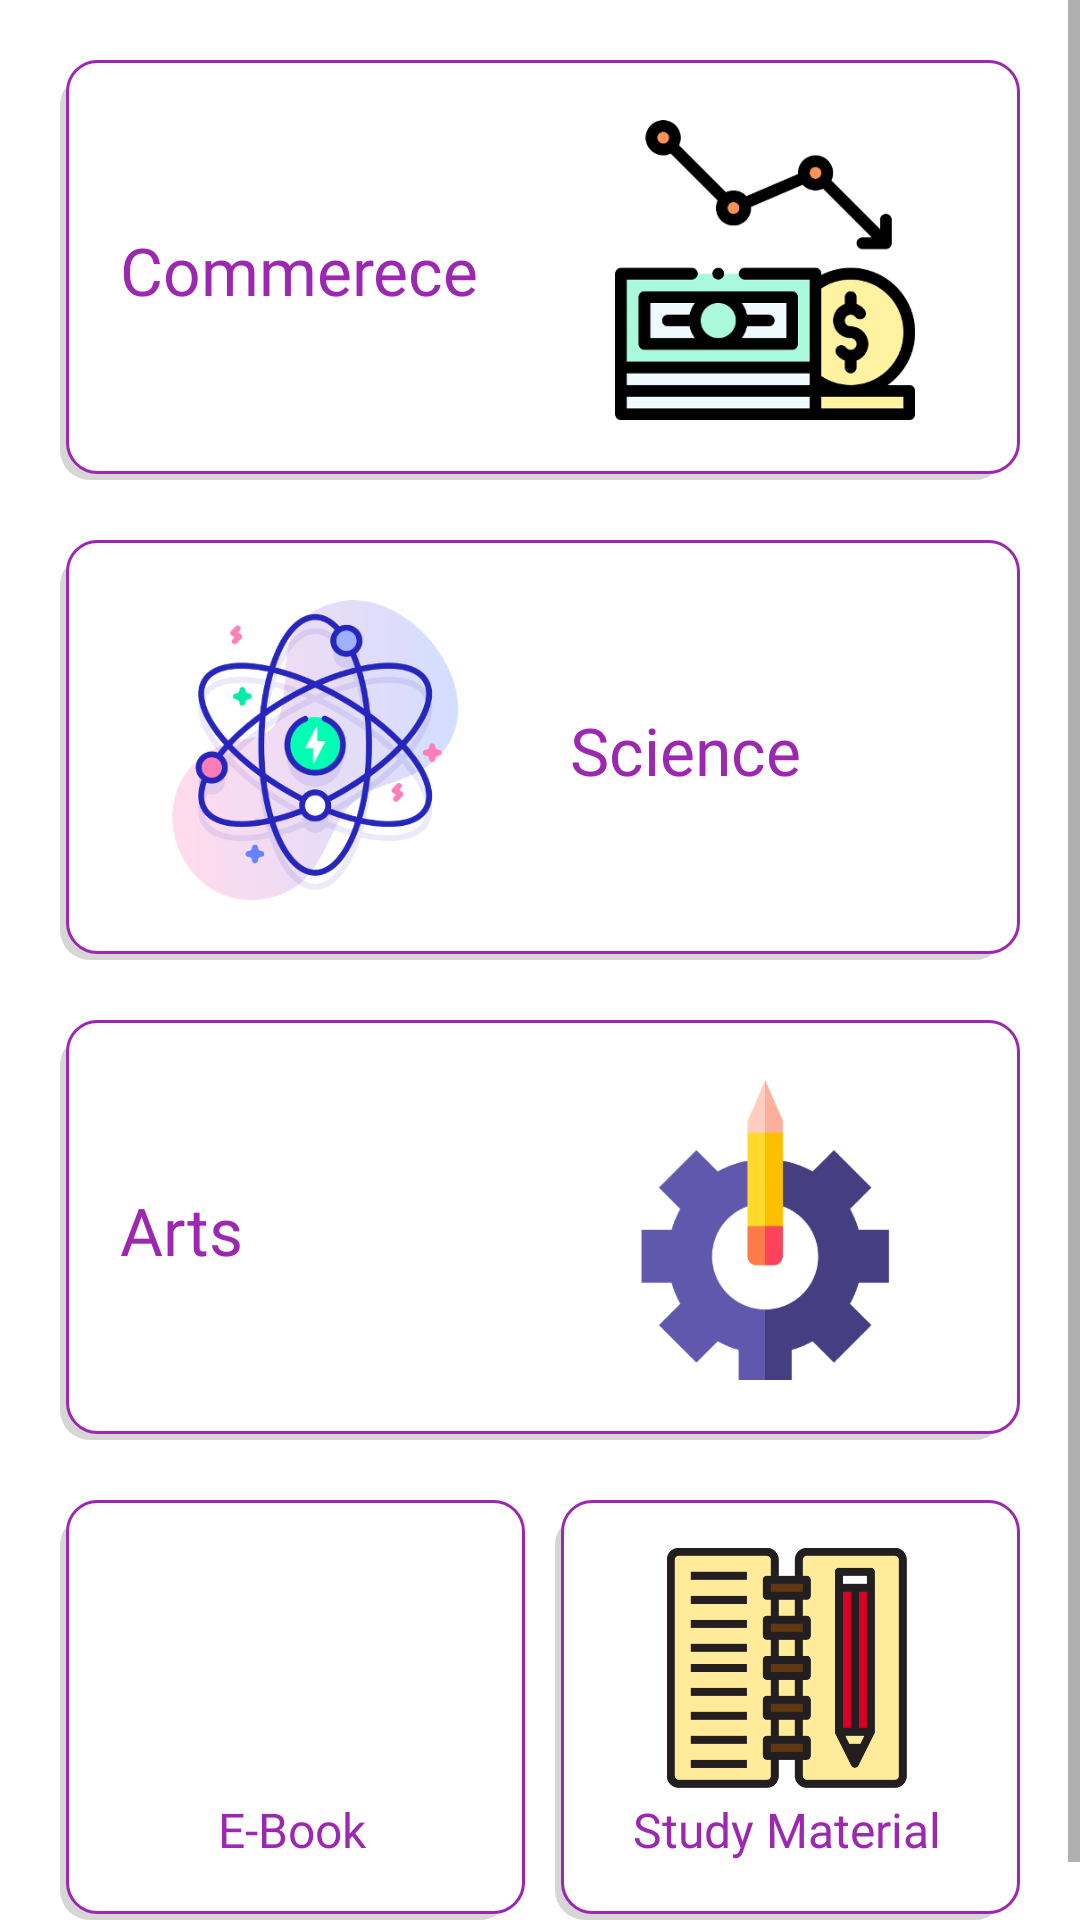

Locate icon controls on the screen. Image size 1080 x 1920, boxes as [left=x1, top=y1, right=x2, bottom=y2].
commerce: [left=615, top=120, right=915, bottom=420]
